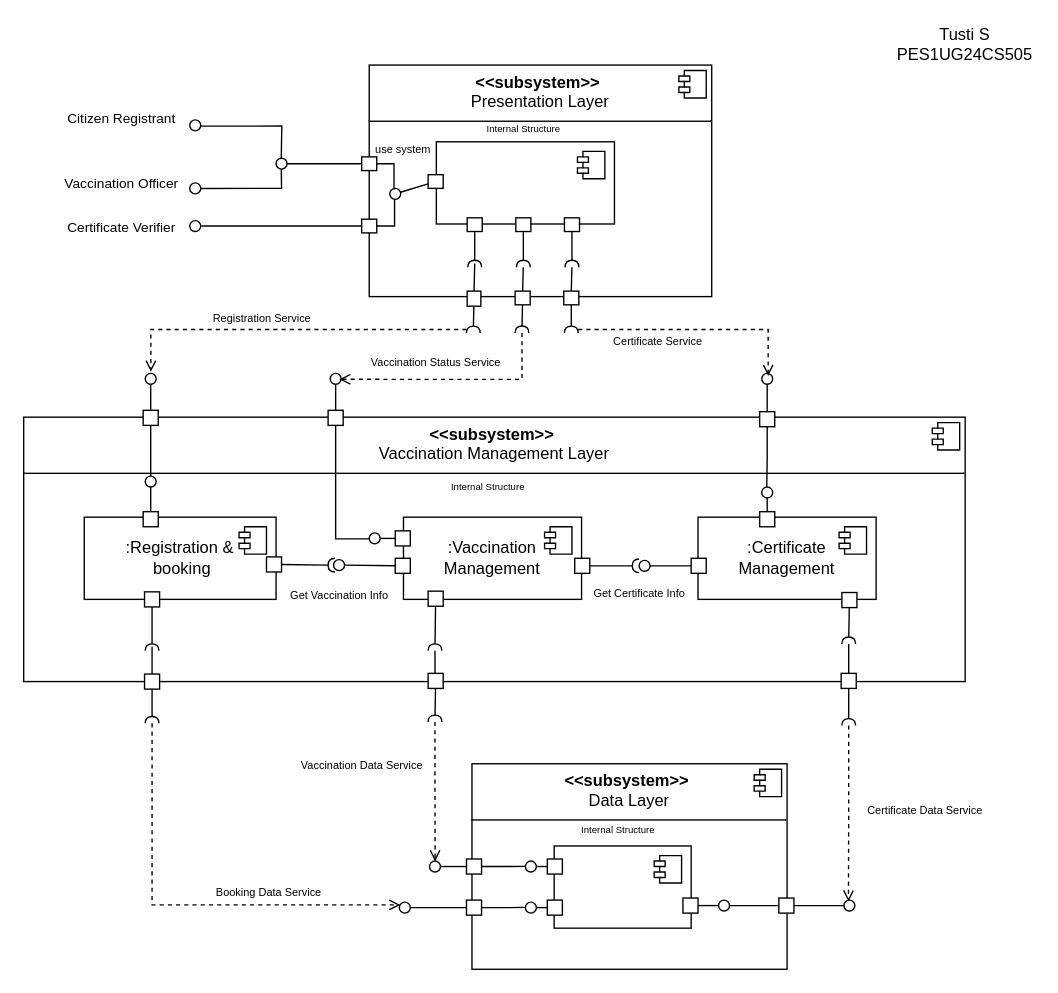
The diagram is 1058 pixels wide and 993 high, and some of its shapes have lost their labels. The shapes that lost their labels are listed below. From the top down, each one's centre as x and y in pixels, then its label:
At (524,182): ":User Interface".
At (622,886): ":Database".
